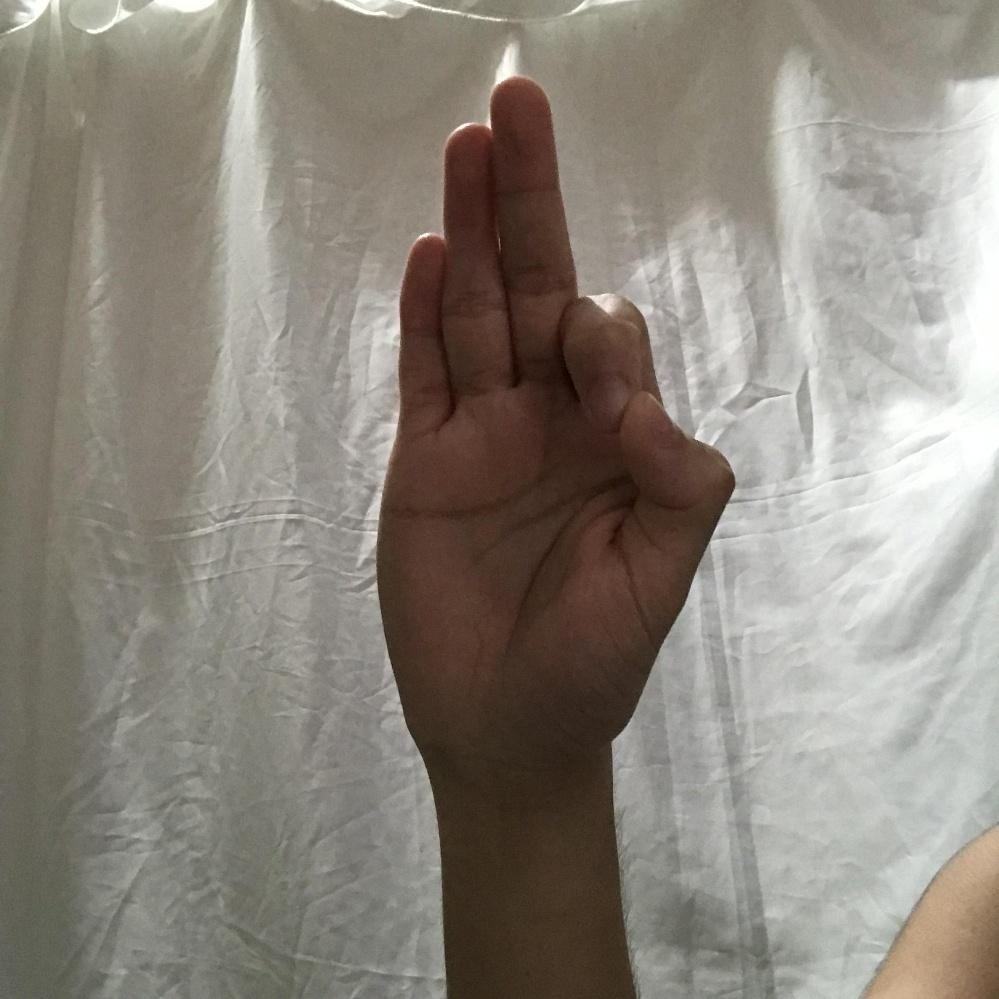f: (374, 82, 741, 769)
